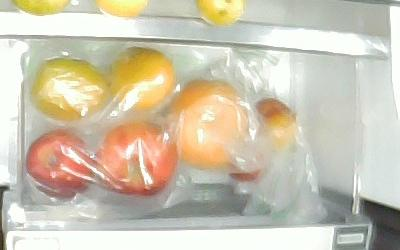apple_vinyl: (94, 120, 177, 196), (26, 130, 93, 199)
grapefruit_vinyl: (164, 77, 251, 169)
persimmon_vinyl: (29, 56, 109, 121), (102, 45, 176, 110)
prune_vinyl: (255, 98, 297, 148), (227, 153, 266, 182)
